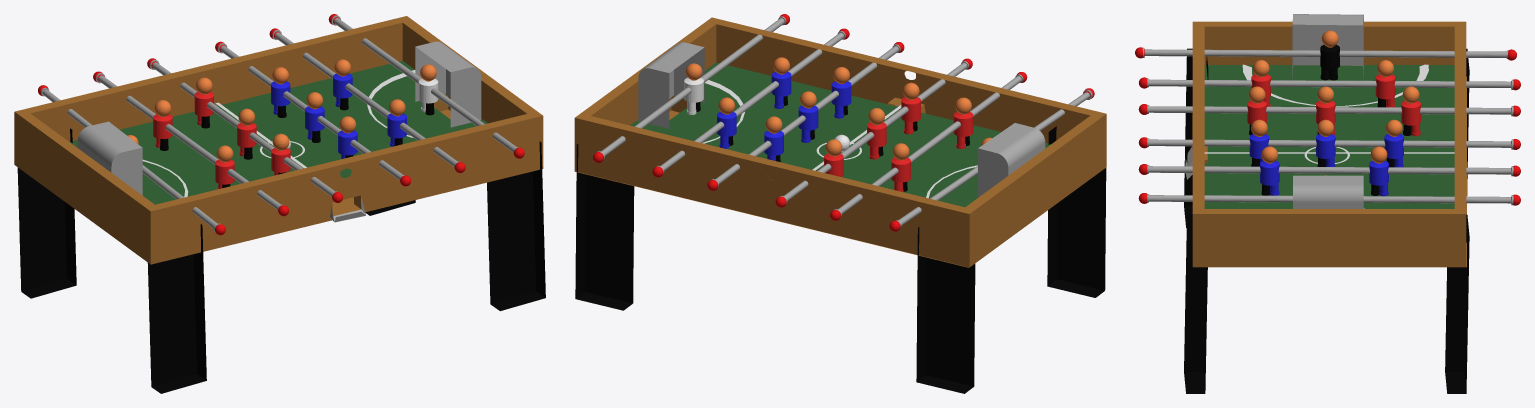
Rendered from taka taka.fbx.
The picture shows the model from 3 angles, left to right: view 1: azimuth 30°, elevation 25°; view 2: azimuth 150°, elevation 25°; view 3: azimuth 270°, elevation 25°; orthographic projection.
Parts seen in each view (by area): view 1: Plane.001; view 2: Plane.001; view 3: Plane.001.
Boxes of the visible parts, <box> form: Plane.001: <box>14,14,545,393</box>; Plane.001: <box>574,14,1106,393</box>; Plane.001: <box>1135,14,1520,393</box>.
Size of the model in its own units: 1.99 by 0.9579 by 1.69.
